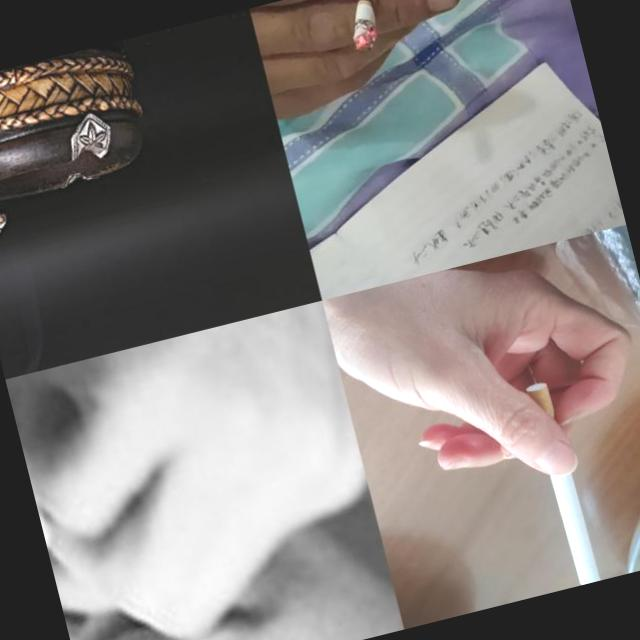smoke: (524, 378, 600, 587), (9, 389, 86, 586), (0, 81, 41, 247), (338, 0, 395, 51)
